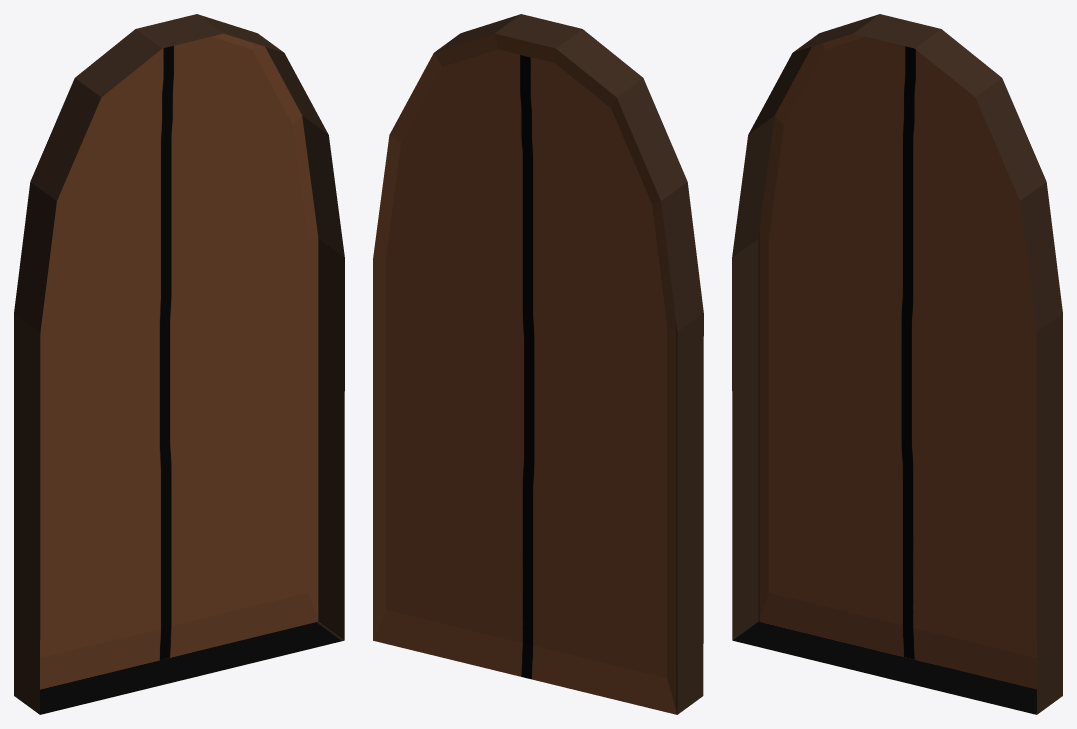
Rendered from Door2.fbx.
3 renders of one model, left to right at view 1: azimuth 30°, elevation 25°; view 2: azimuth 150°, elevation 25°; view 3: azimuth 330°, elevation 25°, orthographic.
Visible parts, largest first — view 1: Cube; view 2: Cube; view 3: Cube.
Boxes of the visible parts, x1=… form: Cube: x1=14, y1=14, x2=344, y2=714; Cube: x1=373, y1=14, x2=703, y2=714; Cube: x1=732, y1=14, x2=1062, y2=714.
Bounding box in the file's own units: 1 × 0.1522 × 2.
1 material, 1 textured.
